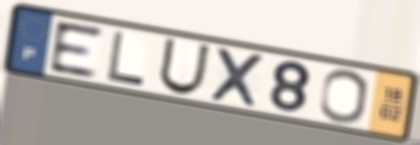8: (267, 59, 314, 115)
E: (48, 19, 106, 80)
L: (105, 29, 148, 88)
O: (317, 67, 370, 126)
U: (156, 36, 213, 96)
X: (208, 44, 267, 110)
